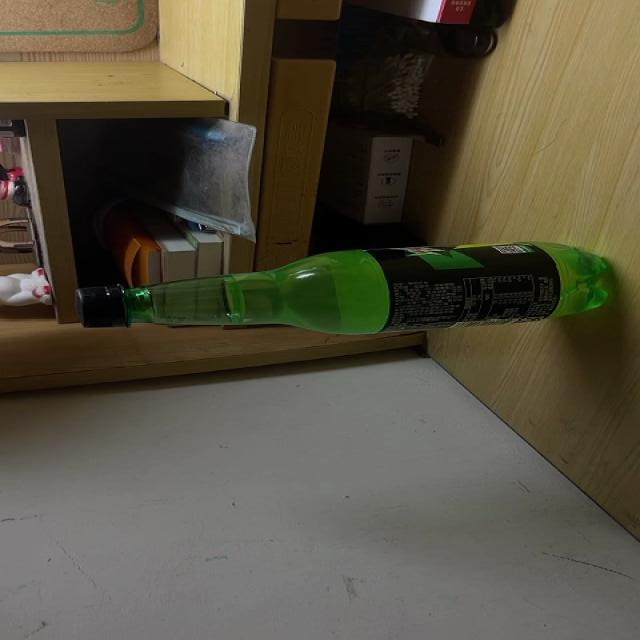Mountain-Dew: (76, 242, 613, 336)
